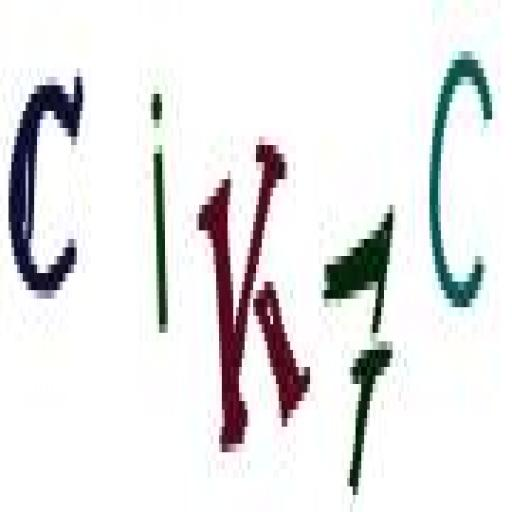7: (321, 202, 399, 502)
C: (428, 44, 496, 314)
K: (195, 134, 315, 453)
c: (5, 64, 90, 311)
i: (148, 83, 174, 338)
